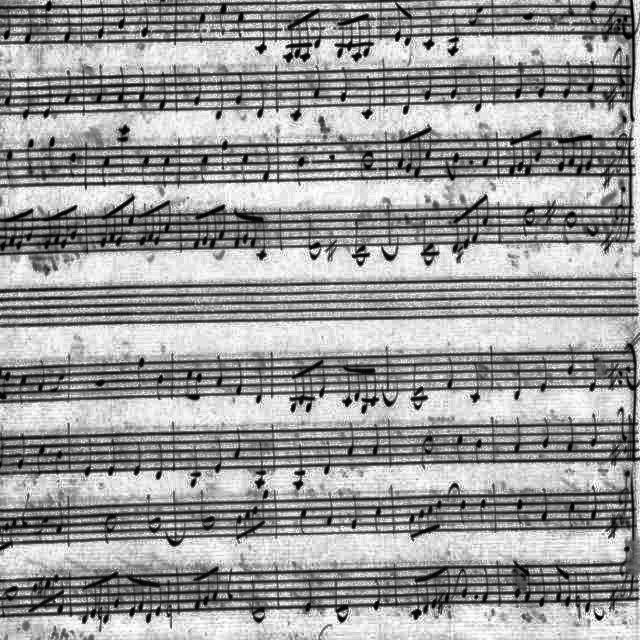Diez: (616, 115, 628, 175), (604, 359, 618, 393), (599, 155, 613, 189), (605, 82, 617, 115), (604, 6, 616, 38), (606, 583, 618, 613), (544, 199, 556, 229), (606, 510, 618, 538), (600, 228, 612, 256), (608, 441, 620, 463), (457, 242, 463, 264), (438, 590, 442, 614)
Eighth-note: (443, 148, 459, 184), (301, 14, 311, 62), (454, 569, 468, 603), (104, 575, 112, 625), (316, 360, 326, 400), (414, 132, 422, 180), (34, 512, 50, 536), (306, 369, 314, 415), (258, 215, 266, 261), (412, 578, 420, 622), (80, 582, 88, 626), (360, 370, 368, 414), (525, 132, 533, 176), (394, 1, 402, 44), (421, 574, 429, 616), (146, 582, 154, 624), (128, 574, 136, 616), (354, 16, 361, 64), (472, 202, 480, 244), (343, 367, 351, 408), (116, 206, 124, 247), (364, 12, 371, 58), (564, 569, 572, 609), (512, 560, 520, 600), (192, 572, 200, 612), (113, 570, 121, 610), (290, 374, 298, 414), (370, 368, 378, 408), (507, 140, 515, 180), (468, 6, 484, 26), (336, 22, 344, 62), (314, 9, 322, 49), (284, 24, 292, 64), (60, 210, 68, 250), (554, 565, 562, 603), (430, 572, 438, 610), (405, 10, 413, 48), (139, 210, 147, 247), (16, 213, 24, 250), (524, 567, 532, 603), (442, 568, 450, 604), (138, 578, 146, 614), (88, 582, 96, 618), (450, 217, 458, 253), (218, 204, 226, 240), (70, 206, 78, 242), (0, 216, 8, 252), (50, 374, 64, 394), (212, 567, 220, 601), (298, 371, 306, 405), (352, 367, 360, 401), (396, 137, 404, 171), (192, 216, 200, 250), (26, 208, 34, 242), (2, 370, 10, 402), (568, 136, 576, 168), (164, 201, 172, 233), (434, 501, 442, 532), (234, 514, 242, 544), (194, 373, 202, 403), (577, 136, 583, 176), (534, 132, 542, 162), (295, 19, 301, 59), (464, 209, 470, 249), (211, 209, 217, 249), (155, 207, 161, 246), (203, 569, 209, 607), (587, 132, 593, 170), (559, 136, 565, 174), (407, 136, 413, 174), (2, 522, 10, 550), (9, 520, 17, 548), (408, 514, 416, 542), (417, 509, 425, 537), (426, 506, 434, 534), (128, 198, 136, 226), (155, 582, 161, 618), (263, 490, 269, 526), (425, 126, 431, 162), (45, 214, 51, 250), (517, 138, 523, 172), (346, 18, 352, 52), (203, 212, 209, 246), (110, 209, 116, 243), (101, 214, 107, 248), (251, 216, 257, 248), (148, 210, 154, 242), (244, 510, 250, 540), (483, 195, 489, 225), (54, 215, 60, 245), (9, 217, 15, 247), (251, 506, 257, 534), (185, 372, 191, 400), (234, 210, 238, 252), (244, 213, 248, 244), (0, 368, 2, 399)
Eighth-rest: (227, 566, 237, 602)
Half-note: (248, 578, 268, 624), (353, 219, 371, 269), (421, 218, 439, 266), (334, 575, 351, 625), (410, 364, 428, 411), (198, 492, 218, 532), (306, 216, 322, 264), (516, 205, 536, 239), (417, 434, 435, 470), (146, 494, 162, 534), (100, 511, 116, 545), (562, 212, 578, 246), (1, 586, 19, 616)
Half-rest: (520, 6, 538, 28)
Quarter-note: (292, 446, 308, 494), (116, 125, 132, 172), (444, 11, 460, 57), (252, 439, 266, 489), (401, 72, 412, 120), (360, 76, 372, 120), (256, 12, 268, 56), (422, 8, 434, 52), (260, 140, 272, 183), (536, 565, 548, 607), (468, 362, 480, 404), (560, 60, 572, 100), (293, 151, 307, 185), (22, 7, 34, 46), (42, 76, 52, 122), (536, 62, 548, 100), (60, 6, 72, 44), (94, 1, 106, 39), (189, 445, 199, 489), (292, 80, 302, 124), (215, 78, 225, 122), (21, 78, 31, 122), (130, 442, 142, 478), (155, 442, 165, 484), (473, 73, 483, 115), (256, 80, 266, 122), (514, 60, 524, 101), (513, 414, 523, 454), (192, 66, 202, 106), (137, 65, 147, 105), (95, 64, 105, 104), (2, 70, 12, 110), (348, 494, 359, 530), (218, 138, 230, 170), (98, 156, 110, 188), (1, 149, 13, 181), (212, 435, 222, 473), (15, 431, 25, 469), (512, 363, 522, 401), (234, 69, 244, 107), (540, 486, 550, 522), (346, 420, 356, 456), (85, 438, 94, 478), (444, 356, 454, 392), (26, 134, 36, 170), (63, 68, 73, 104), (140, 1, 150, 37), (584, 570, 592, 614), (481, 135, 491, 169), (448, 66, 458, 100), (423, 67, 433, 101), (312, 66, 322, 100), (2, 8, 12, 42), (590, 351, 598, 393), (66, 152, 78, 180), (158, 70, 166, 112), (323, 439, 332, 476), (27, 582, 38, 612), (218, 5, 228, 38), (372, 424, 382, 456), (108, 438, 116, 478), (565, 344, 575, 376), (540, 356, 548, 396), (215, 356, 225, 388), (137, 356, 147, 388), (240, 150, 250, 182), (199, 152, 209, 184), (161, 156, 171, 188), (140, 156, 150, 188), (197, 14, 207, 46), (233, 428, 243, 459), (119, 1, 129, 32), (482, 566, 490, 604), (590, 484, 598, 522), (566, 416, 574, 454), (255, 368, 263, 406), (339, 67, 347, 105), (118, 67, 126, 105), (326, 490, 334, 526), (590, 412, 598, 448), (234, 360, 242, 396), (48, 136, 56, 172), (588, 58, 596, 94), (474, 437, 484, 465), (35, 446, 45, 474), (235, 12, 245, 40), (373, 577, 381, 611), (304, 579, 312, 613), (58, 579, 66, 613), (38, 359, 46, 393), (542, 416, 550, 449), (567, 502, 577, 528), (516, 498, 526, 524), (298, 507, 308, 533), (18, 376, 28, 402), (56, 502, 64, 534), (563, 0, 577, 18), (44, 1, 52, 32), (156, 373, 164, 403), (587, 0, 597, 24), (456, 433, 464, 462), (54, 451, 64, 474), (479, 497, 487, 525), (459, 498, 467, 526), (157, 1, 167, 23), (374, 506, 382, 532), (44, 578, 50, 606), (52, 573, 56, 605), (1, 432, 4, 472)
Treble-clef: (618, 542, 632, 598), (614, 182, 626, 245), (620, 468, 632, 528), (358, 149, 374, 181)
